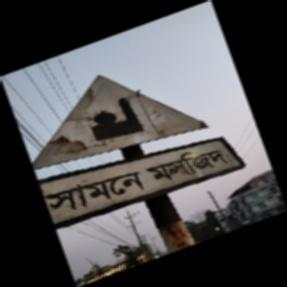Mosque in front: (29, 67, 252, 241)
